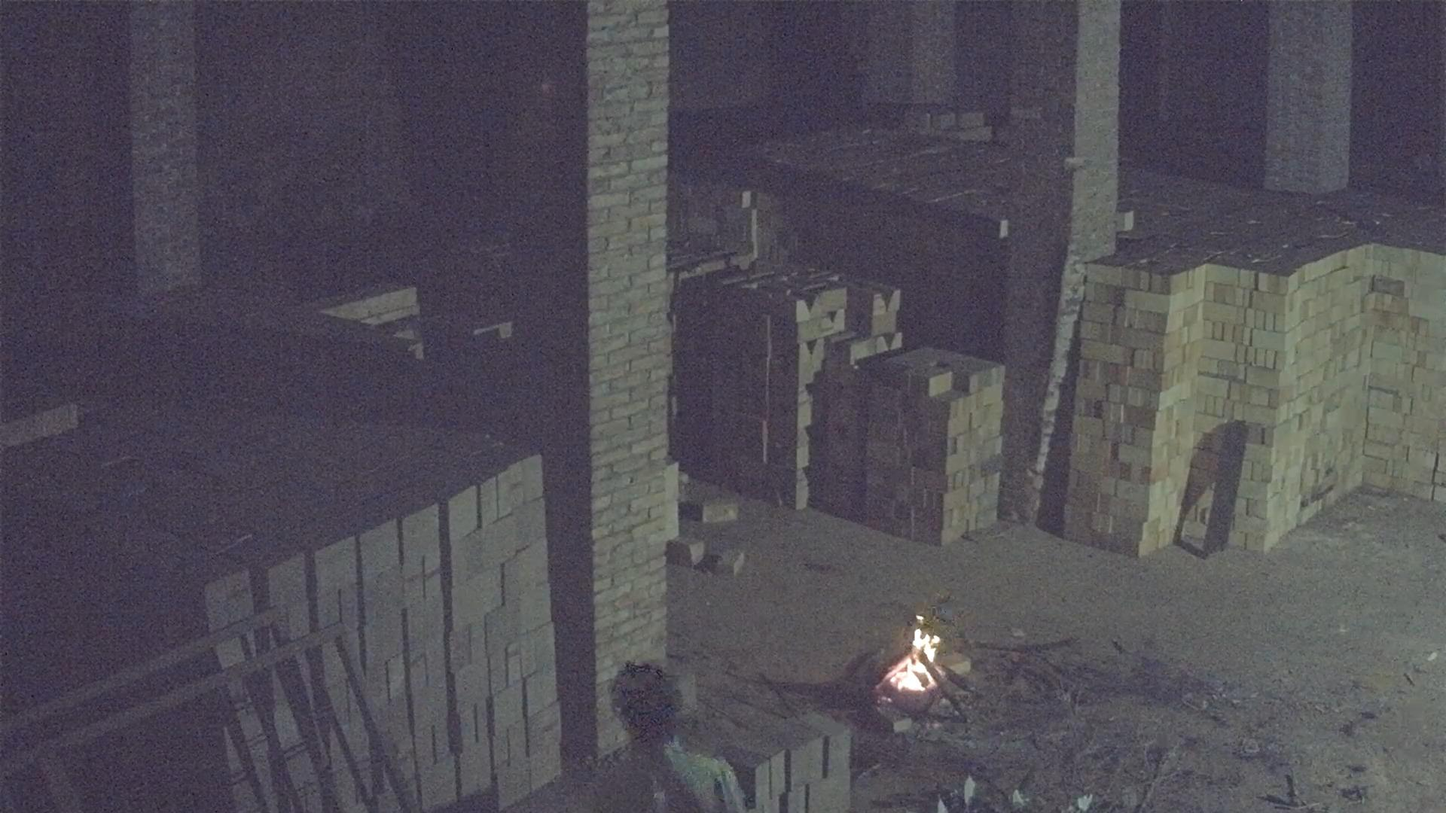fire: (877, 627, 942, 695)
